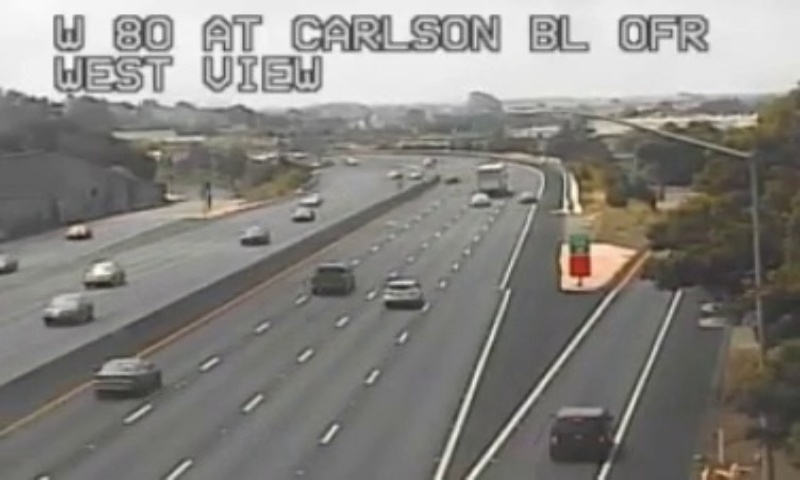car: (548, 407, 610, 458), (89, 359, 157, 391), (310, 261, 353, 294), (382, 279, 421, 304)
